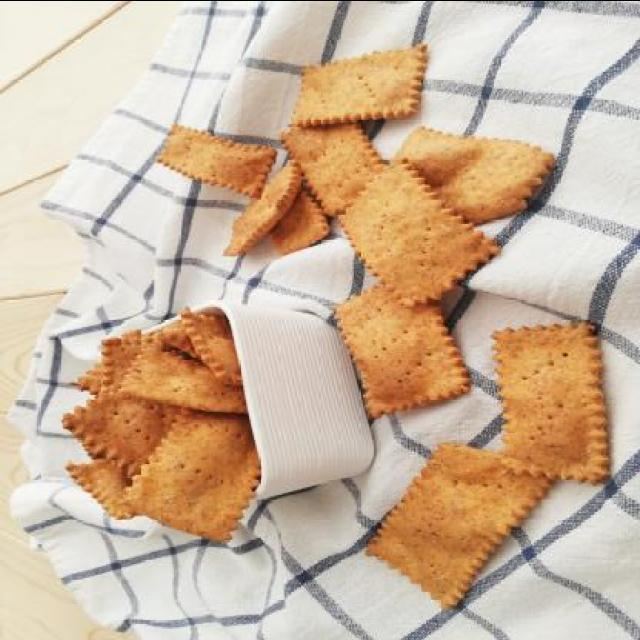Cracker packaged: (371, 440, 549, 600), (90, 330, 233, 518), (341, 162, 507, 300), (346, 252, 468, 414), (492, 314, 600, 488), (388, 127, 560, 224), (284, 42, 444, 133), (152, 127, 262, 190)
